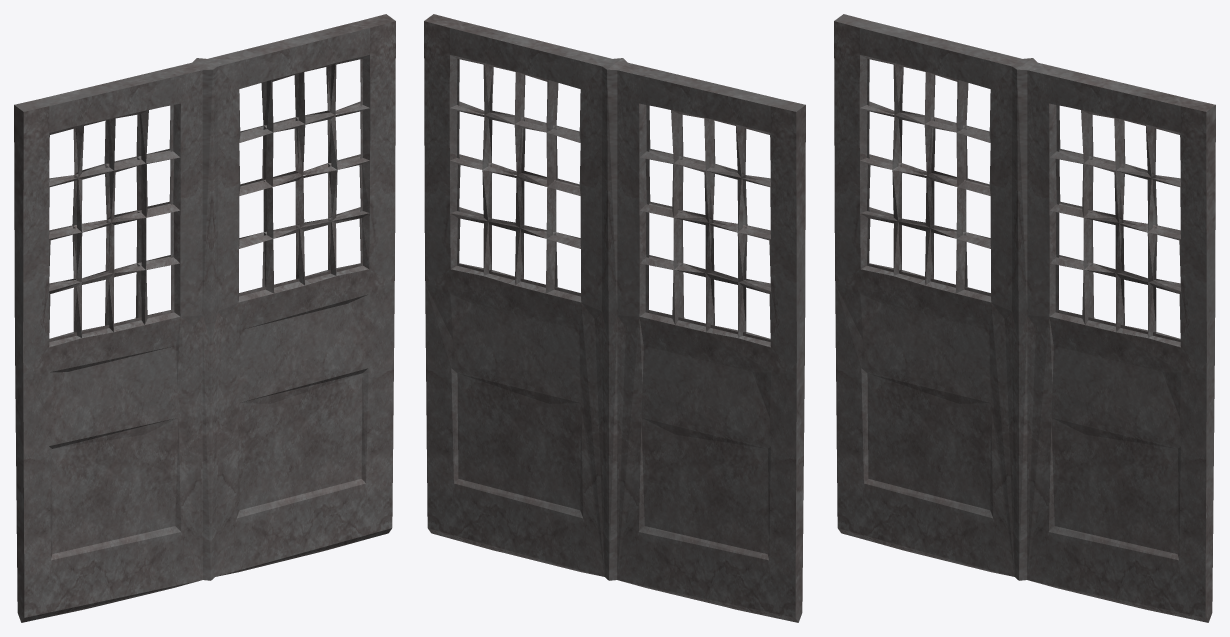
Rendered from SM_Elevator_Door.fbx.
The picture shows the model from 3 angles, left to right: view 1: azimuth 30°, elevation 25°; view 2: azimuth 150°, elevation 25°; view 3: azimuth 330°, elevation 25°; orthographic projection.
Visible parts, largest first — view 1: SM_Elevator_Door; view 2: SM_Elevator_Door; view 3: SM_Elevator_Door.
Part boxes in pixels (bbox=[...]): SM_Elevator_Door: bbox=[14, 14, 395, 622]; SM_Elevator_Door: bbox=[424, 14, 805, 622]; SM_Elevator_Door: bbox=[834, 14, 1215, 622].
Size of the model in its own units: 154 by 204 by 11.4.
